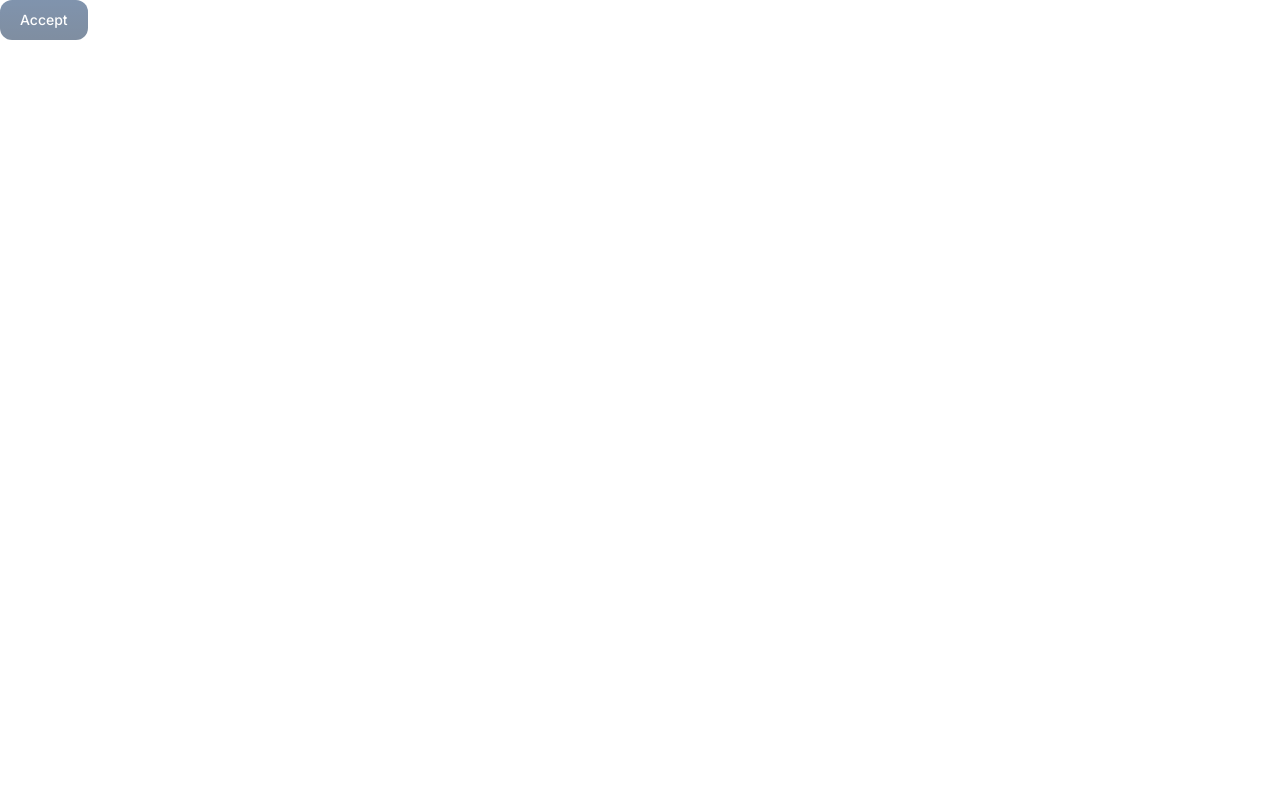
it: Button with a blocked reason › several reasons: shows the first and "N more steps"
The image size is (1280, 800).
Click the button "Accept".
click(44, 20)  # box [0,0,88,40]
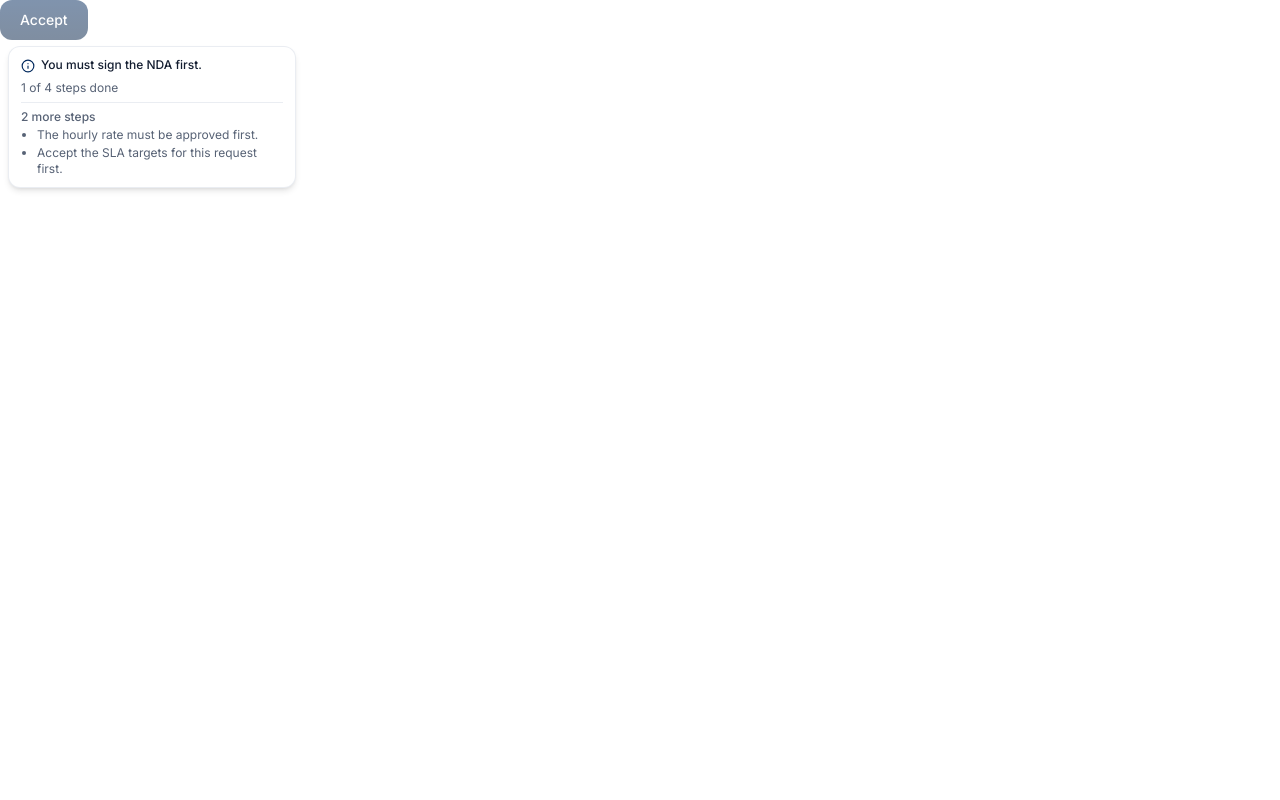
expect the dialog with test id "blocked-popover" shows "You must sign the NDA first.": met, box [41,57,202,72]
expect the dialog with test id "blocked-popover" shows "2 more steps": met, box [21,108,96,124]
expect the dialog with test id "blocked-popover" shows "1 of 4 steps done": met, box [21,80,118,94]
